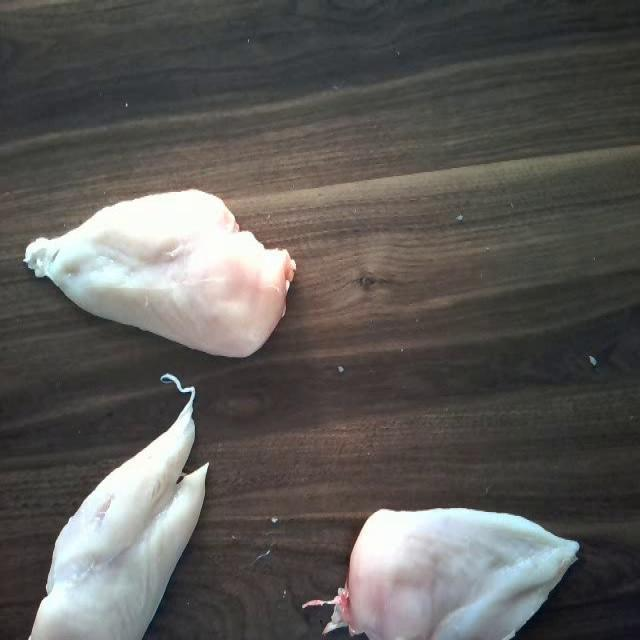breast: (21, 188, 302, 350), (41, 391, 200, 640), (328, 501, 575, 640)
